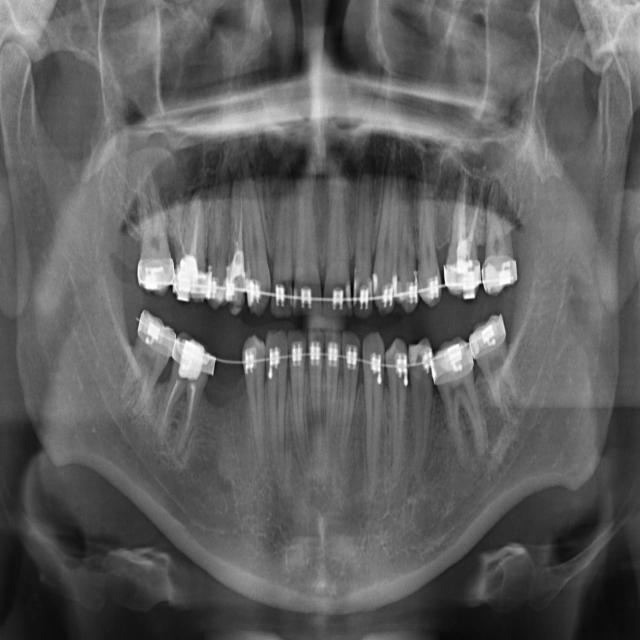AGS Medikal Implant: (352, 179, 374, 300)
AMerOss Implant: (375, 185, 402, 296)
Amalgam filling: (400, 199, 418, 308)
Anthogyr Implant: (417, 200, 442, 303)
Bicon Implant: (445, 189, 483, 292)
BioHorizons Implant: (481, 195, 528, 296)
Blue Sky Bio Implant: (468, 316, 534, 435)
Camlog Implant: (434, 347, 493, 462)
Caries: (138, 182, 178, 295)
Composite filling: (409, 341, 440, 446)
Cowellmedi Implant: (388, 341, 407, 438)
Crown: (365, 328, 385, 467)
DENTSPLY Implant: (334, 341, 361, 458)
Dentatus Implant: (325, 338, 341, 440)
Dentis Implant: (306, 337, 324, 429)
Dentium Implant: (292, 333, 307, 451)
Euroteknika Implant: (269, 334, 285, 454)
Filling: (240, 338, 263, 439)
Hiossen Implant: (175, 193, 218, 296)
Implant: (150, 339, 217, 457)
Keystone Dental Implant: (140, 379, 140, 380)
MIS Implant: (205, 196, 227, 298)
Mandible: (228, 172, 244, 317)
Maxilla: (239, 143, 272, 317)
Megagen Implant: (269, 178, 301, 305)
Neodent Implant: (293, 172, 324, 305)
Neoss Implant: (326, 171, 350, 303)
